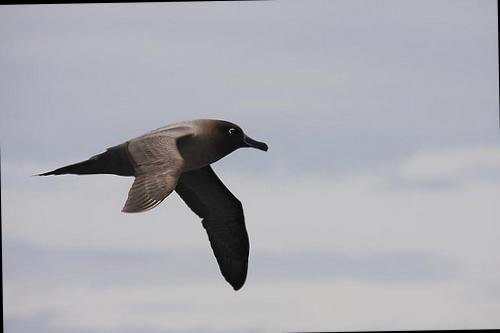bird: (23, 104, 284, 306)
